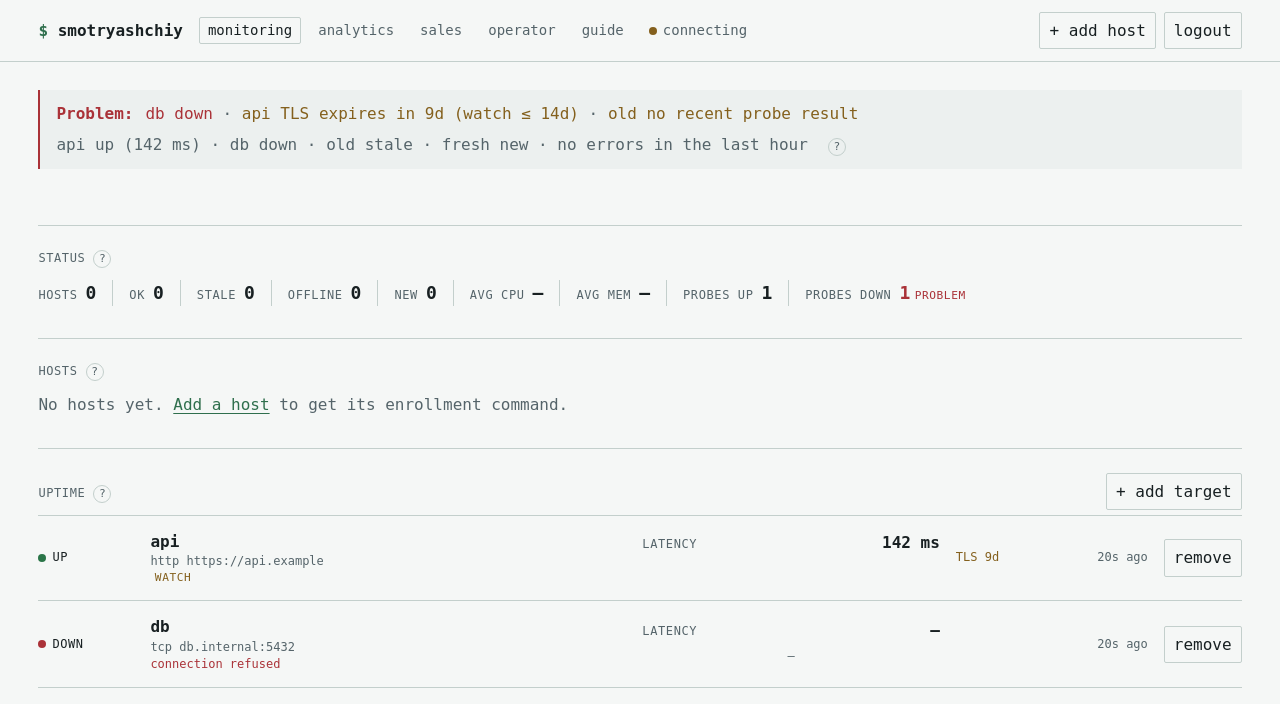
removing a target › deletes on confirmation and the ledger reloads
Click the button with aria-label "Remove db" at (1203, 644), box x1=1164 y1=626 x2=1242 y2=663
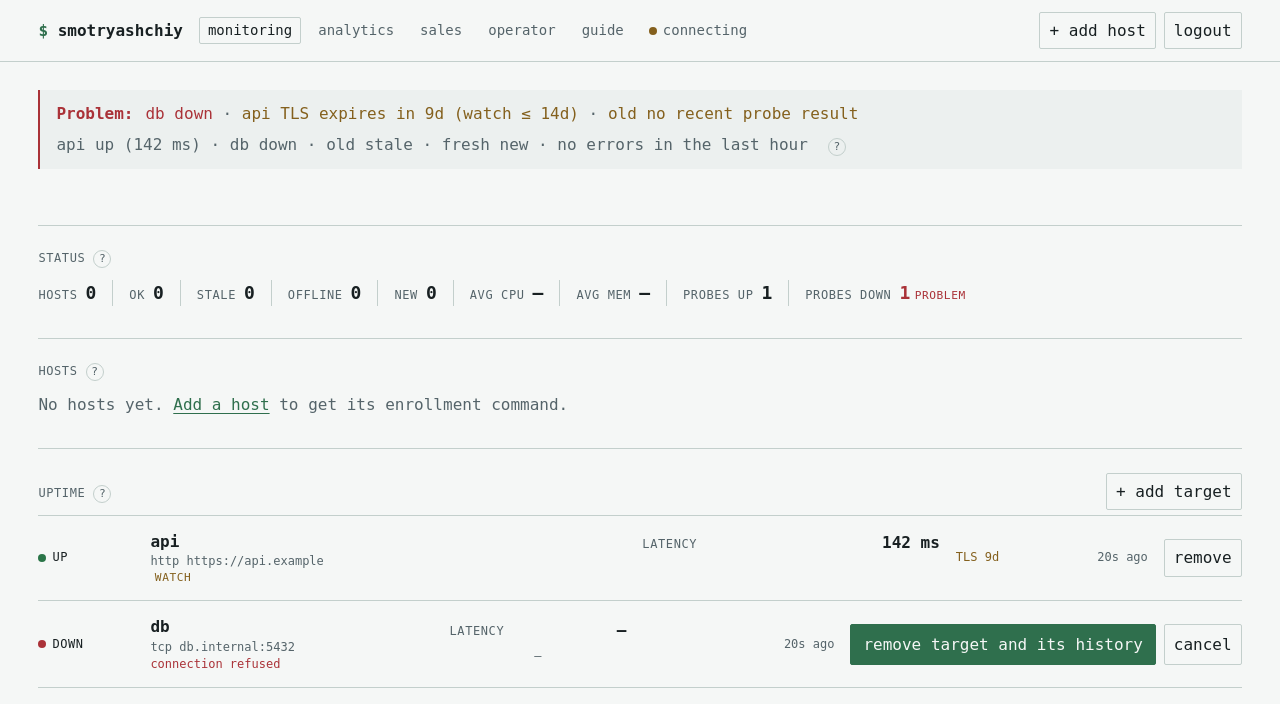
Click the button "remove target and its history" at (1003, 644), box x1=850 y1=624 x2=1156 y2=665
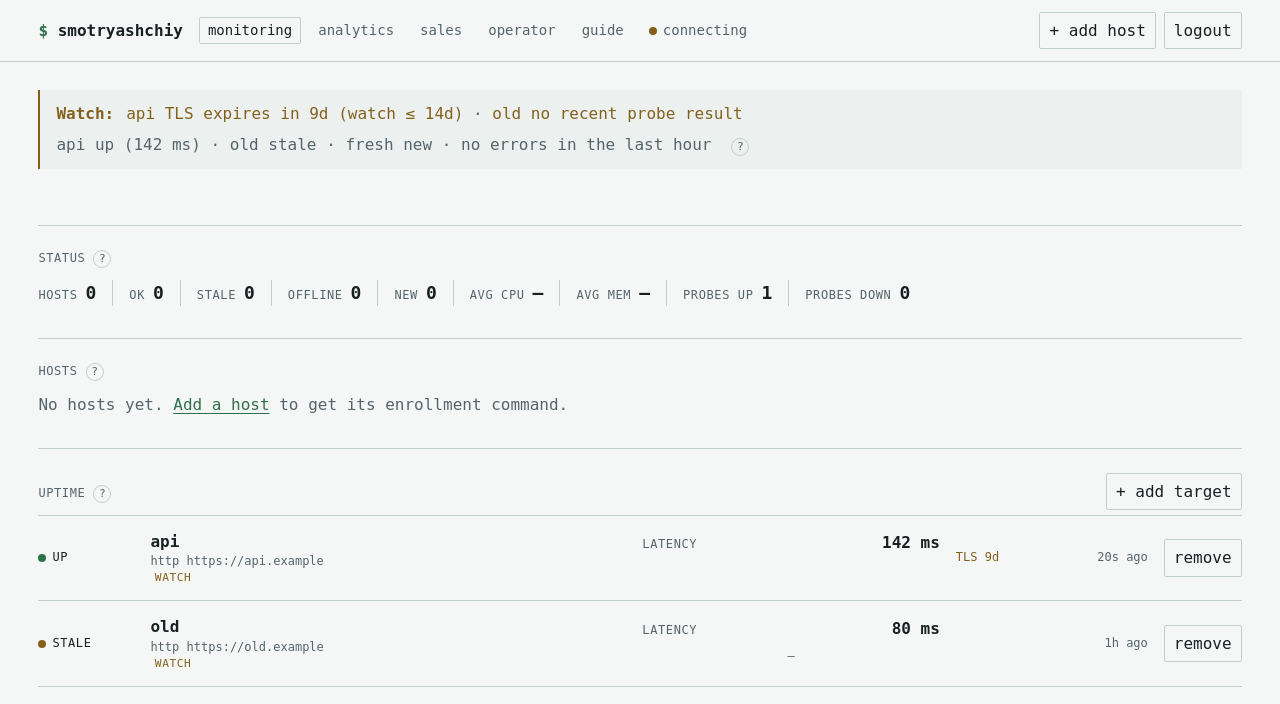
Result: the list item "db" is gone
